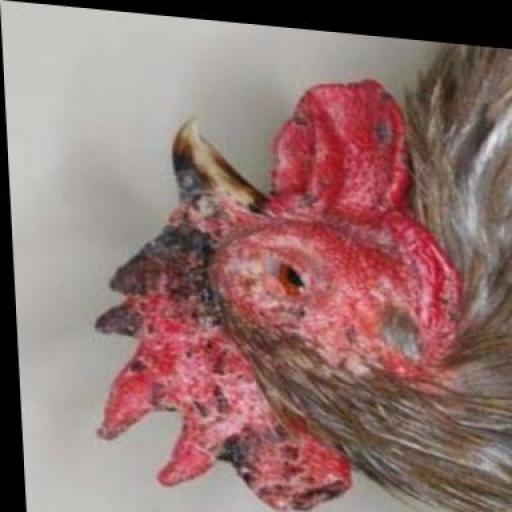disease: (85, 118, 361, 511), (243, 80, 463, 375)
